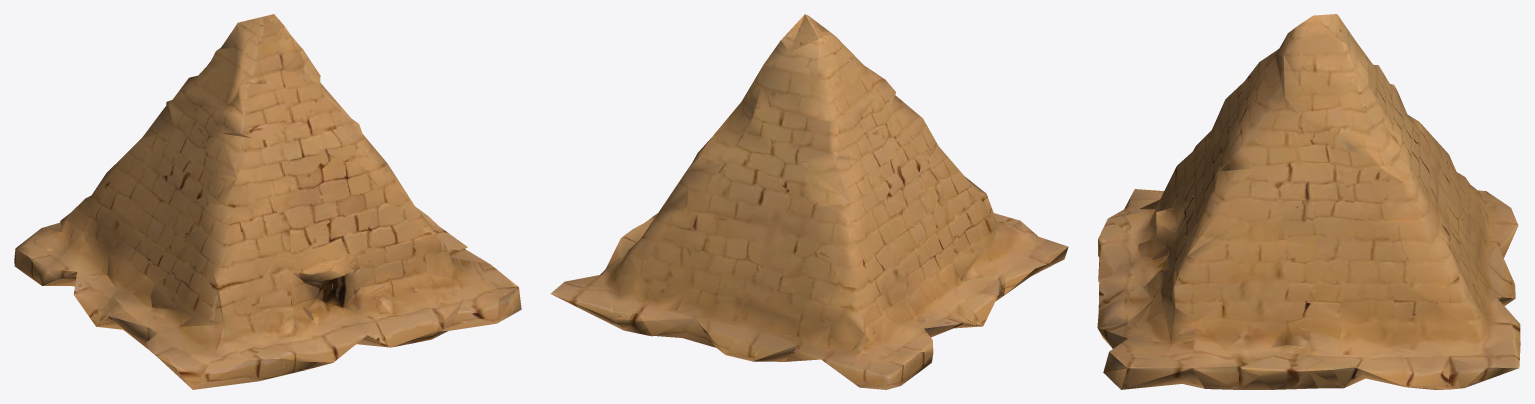
The model's file is poi_pyramid.glb.
3 renders of one model, left to right at view 1: azimuth 30°, elevation 25°; view 2: azimuth 150°, elevation 25°; view 3: azimuth 270°, elevation 25°, orthographic. The views are drawn at different scales.
Visible parts, largest first — view 1: Pyramid; view 2: Pyramid; view 3: Pyramid.
Boxes of the visible parts, x1=… form: Pyramid: x1=14, y1=14, x2=521, y2=389; Pyramid: x1=550, y1=14, x2=1068, y2=389; Pyramid: x1=1097, y1=14, x2=1520, y2=389.
Size of the model in its own units: 1.98 by 1.48 by 1.95.
Materials: 1 (1 with a texture image).
